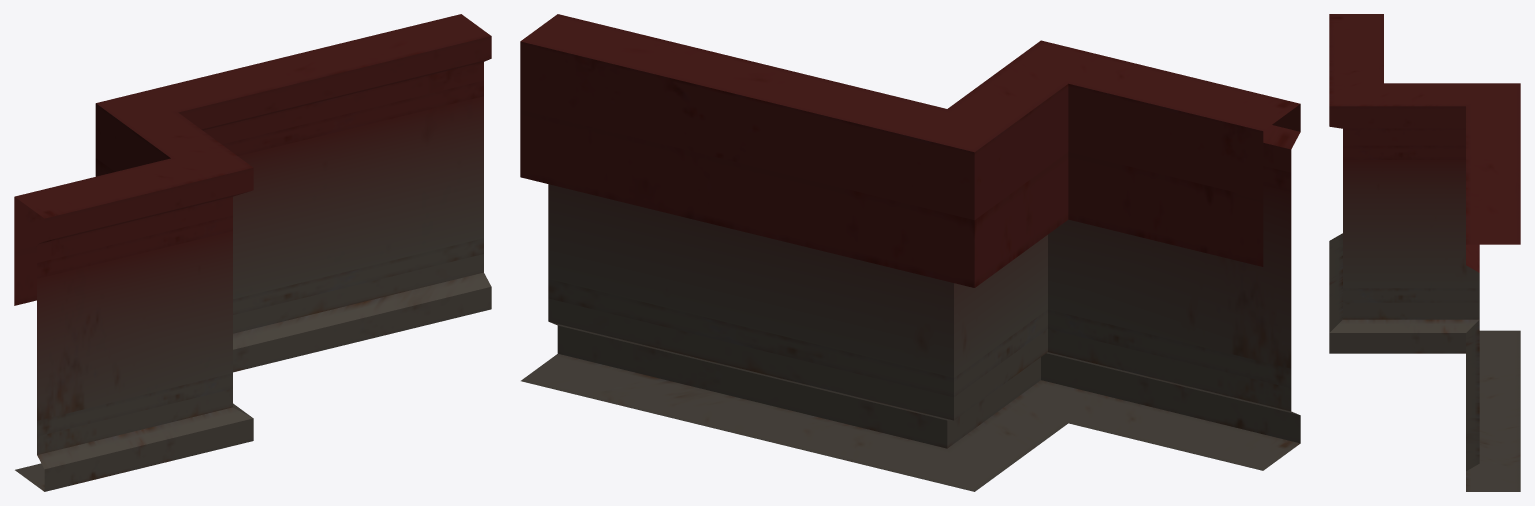
The model's file is cornice_metal_90angle_l.glb.
The picture shows the model from 3 angles, left to right: view 1: azimuth 30°, elevation 25°; view 2: azimuth 150°, elevation 25°; view 3: azimuth 270°, elevation 25°; orthographic projection. The views are drawn at different scales.
Parts seen in each view (by area): view 1: Cornice_Metal_90Angle_L; view 2: Cornice_Metal_90Angle_L; view 3: Cornice_Metal_90Angle_L.
Part boxes in pixels (x1,y1,x2,y2): Cornice_Metal_90Angle_L: (14, 14, 491, 491); Cornice_Metal_90Angle_L: (520, 14, 1300, 491); Cornice_Metal_90Angle_L: (1329, 14, 1520, 491).
Bounding box in the file's own units: 2 × 1 × 0.7.
Materials: 1 (1 with a texture image).
